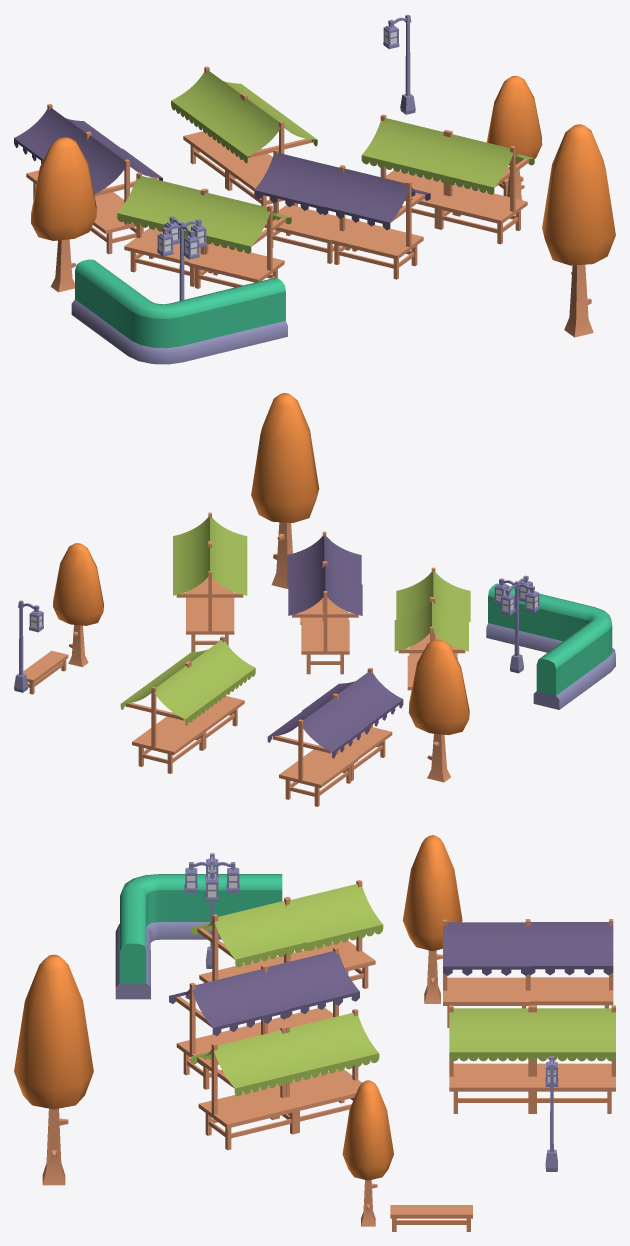
File: night_market.glb
3 renders of one model, top to bottom at view 1: azimuth 30°, elevation 25°; view 2: azimuth 150°, elevation 25°; view 3: azimuth 270°, elevation 25°, orthographic. The views are drawn at different scales.
Visible parts, largest first — view 1: mergedBlocks(Clone); view 2: mergedBlocks(Clone); view 3: mergedBlocks(Clone).
Boxes of the visible parts, x1,y1,x2,y2 form: mergedBlocks(Clone): (14, 14, 615, 364); mergedBlocks(Clone): (14, 393, 615, 806); mergedBlocks(Clone): (14, 835, 615, 1231).
Size of the model in its own units: 1.46 by 0.5598 by 1.37.
